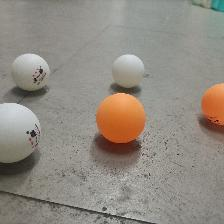WhiteBall: (0, 101, 41, 163), (11, 52, 50, 91), (111, 53, 144, 88)
YellowBall: (96, 92, 146, 143), (200, 83, 223, 125)
